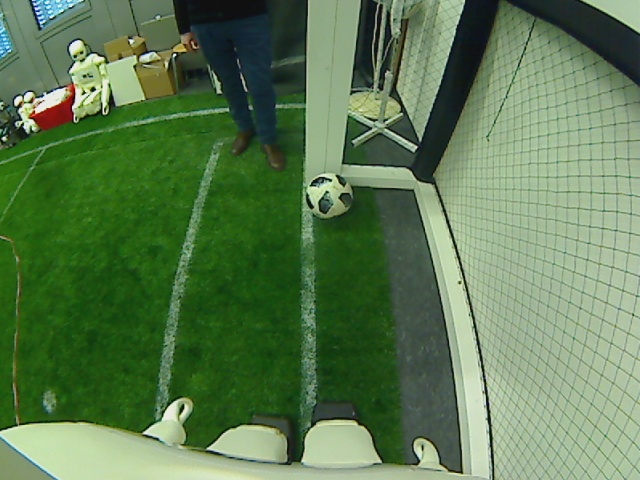ball: (306, 171, 353, 217)
